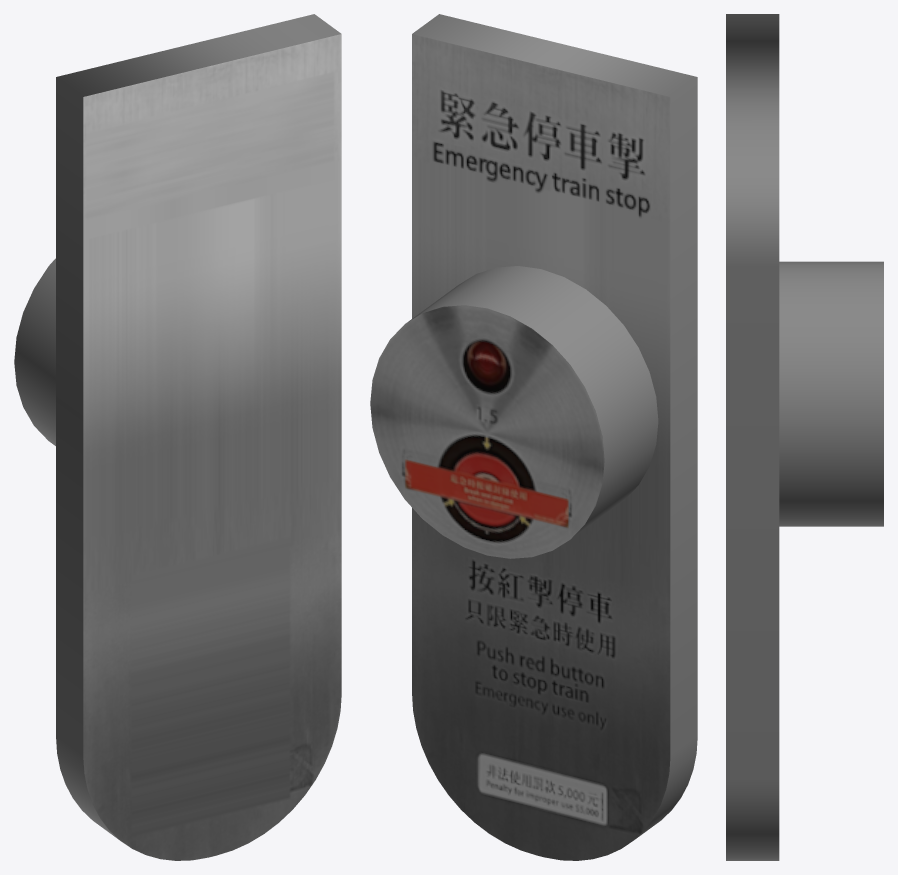
The model's file is esb_url.obj.
The picture shows the model from 3 angles, left to right: view 1: azimuth 30°, elevation 25°; view 2: azimuth 150°, elevation 25°; view 3: azimuth 270°, elevation 25°; orthographic projection. The views are drawn at different scales.
Parts seen in each view (by area): view 1: Cube, Cylinder; view 2: Cube, Cylinder; view 3: Cube, Cylinder.
Part boxes in pixels (box(x1,y1,x2,y2)): Cube: box(56, 14, 341, 860); Cylinder: box(14, 258, 55, 445); Cube: box(412, 14, 697, 860); Cylinder: box(370, 266, 658, 558); Cube: box(726, 14, 779, 860); Cylinder: box(779, 261, 883, 526).
Size of the model in its own units: 0.3419 by 1 by 0.1857.
Materials: 1 (1 with a texture image).
